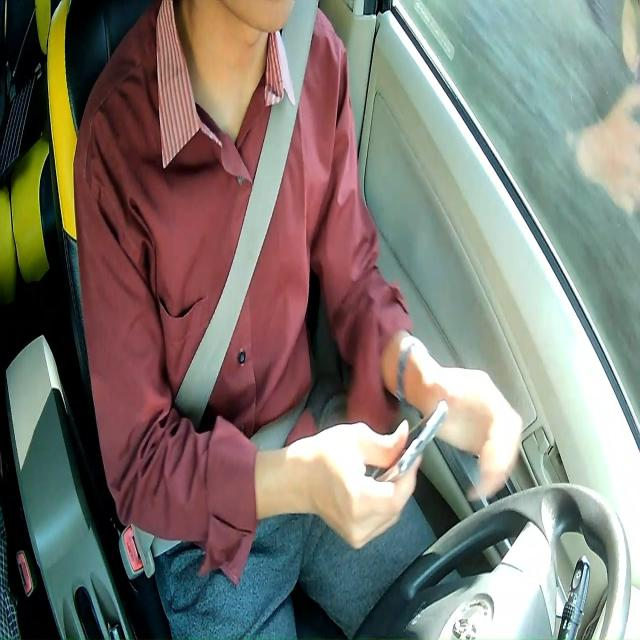phone: (370, 397, 450, 483)
